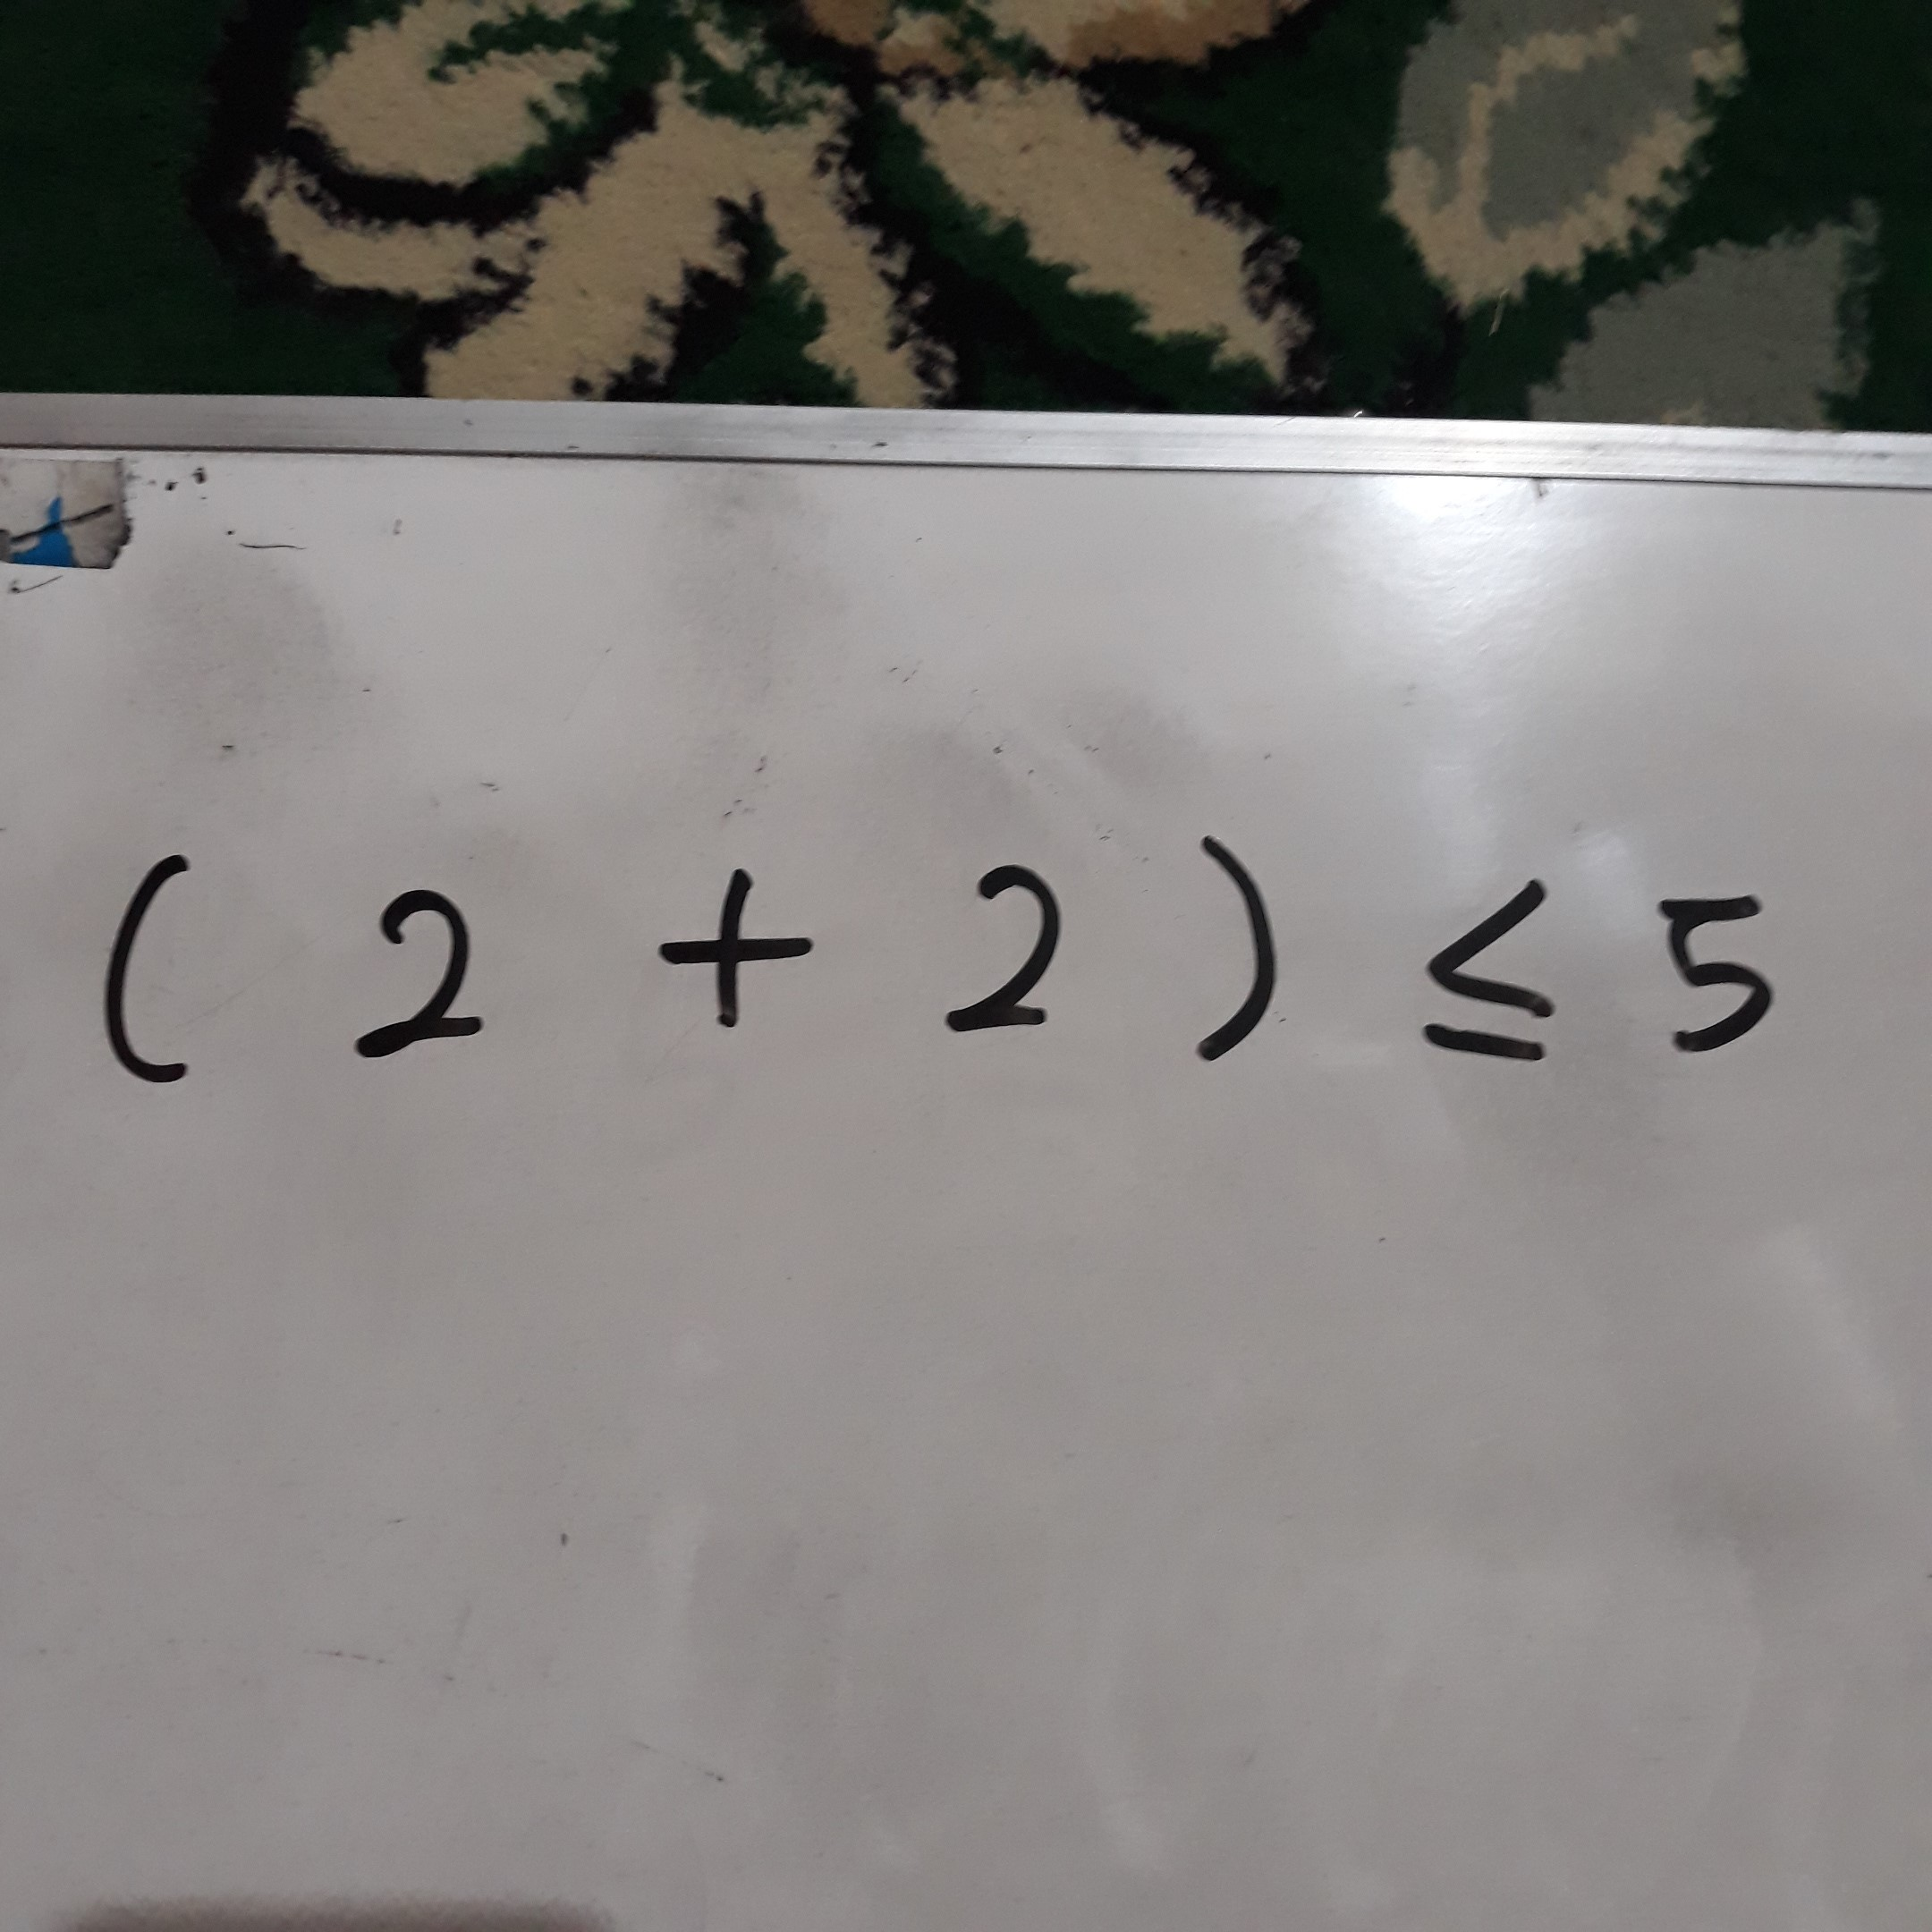closebracket: (1174, 823, 1310, 1074)
lessthan-equal: (1401, 861, 1575, 1081)
num2: (913, 852, 1092, 1046), (343, 873, 498, 1078)
num5: (1631, 858, 1806, 1078)
openbracket: (82, 832, 228, 1112)
sum: (650, 845, 829, 1038)
